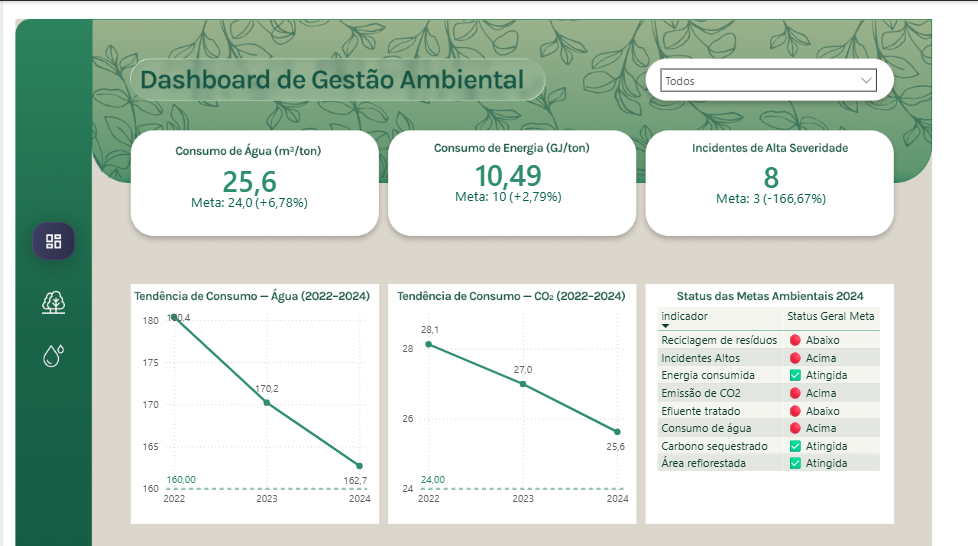

The dashboard page shown, as its layout file describes it:
{"tool":"powerbi","page":{"name":"Home","canvas":[1280,720],"ordinal":0},"visuals":[{"type":"kpi","title":"Consumo de Água (m³/ton)","fields":{"Indicator":["Medidas DAX.Media Agua m3"],"Goal":["Metas.Meta Agua 2024"],"TrendLine":["DimData.data.Variation.Hierarquia de datas.Ano"]},"box":[226.2,207.5,192.5,76.2],"z":0},{"type":"kpi","title":"Consumo de Energia (GJ/ton)","fields":{"Goal":["Metas.Meta Energia consumida 2024"],"Indicator":["Medidas DAX.MEDIA ENERGIA GJ"],"TrendLine":["DimData.data.Variation.Hierarquia de datas.Ano"]},"box":[562.5,212.5,197.5,52.5],"z":1000},{"type":"kpi","title":"Incidentes de Alta severidade por ano","fields":{"Indicator":["Medidas DAX.Incidentes Alta Severidade"],"Goal":["Medidas DAX.Meta Incidentes Altos"],"TrendLine":["DimData.data.Variation.Hierarquia de datas.Ano"]},"box":[901.2,207.5,210,63.8],"z":2000},{"type":"lineChart","fields":{"Y":["Medidas DAX.MEDIA CO2"],"Category":["DimData.data.Variation.Hierarquia de datas.Ano"]},"box":[177.1,395.7,310,274.3],"z":3000},{"type":"tableEx","fields":{"Values":["metas_ambientais.indicador","Medidas DAX.Status Agua"]},"box":[851.4,395.7,302.9,274.3],"z":4000},{"type":"lineChart","fields":{"Category":["DimData.data.Variation.Hierarquia de datas.Ano"],"Y":["Medidas DAX.Media Agua m3"]},"box":[517.1,395.7,307.1,274.3],"z":5000},{"type":"slicer","fields":{"Values":["DimData.ano"]},"box":[851.4,78.6,302.9,40],"z":6000}]}

Visuals, with their boxes on the page's 1280x720 design canvas (x1, y1, x2, y2). These are canvas units, not pixel positions in the 978x546 screenshot, which may show the page scaled, cropped or inside an application window:
"Consumo de Água (m³/ton)" kpi: bbox(226, 208, 419, 284)
"Consumo de Energia (GJ/ton)" kpi: bbox(562, 212, 760, 265)
"Incidentes de Alta severidade por ano" kpi: bbox(901, 208, 1111, 271)
lineChart - Medidas DAX.MEDIA CO2 x DimData.data.Variation.Hierarquia de datas.Ano: bbox(177, 396, 487, 670)
tableEx - metas_ambientais.indicador x Medidas DAX.Status Agua: bbox(851, 396, 1154, 670)
lineChart - DimData.data.Variation.Hierarquia de datas.Ano x Medidas DAX.Media Agua m3: bbox(517, 396, 824, 670)
slicer - DimData.ano: bbox(851, 79, 1154, 119)
